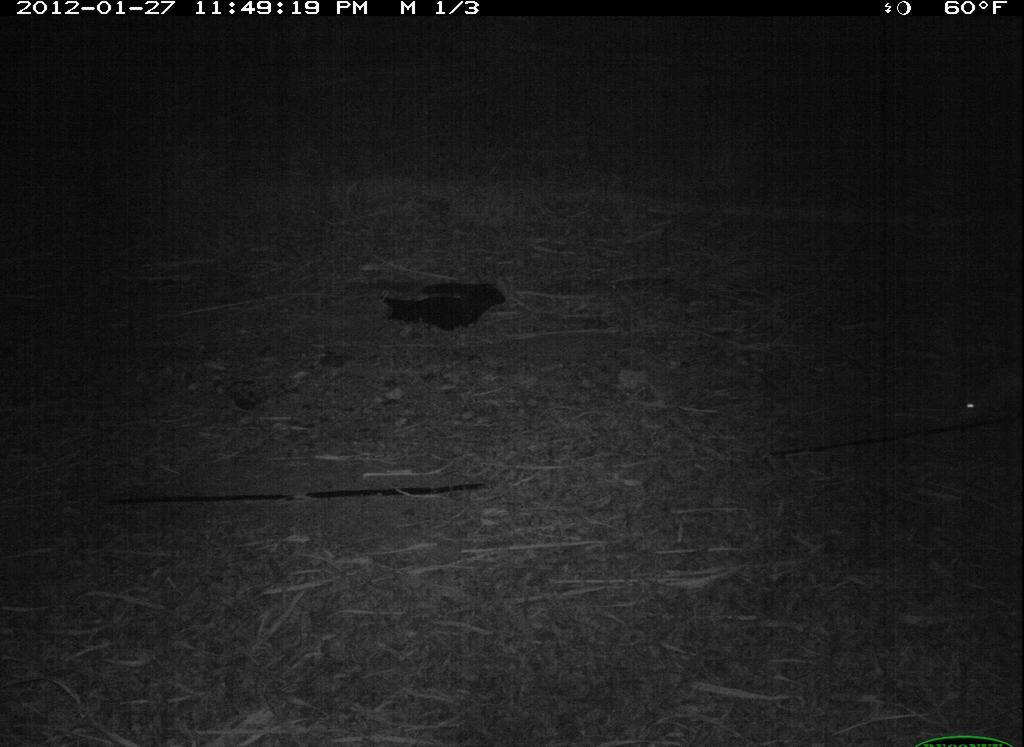opossum: (876, 349, 1022, 473)
